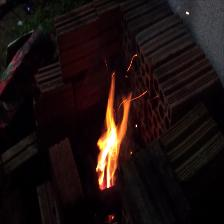fire: (100, 89, 128, 189)
